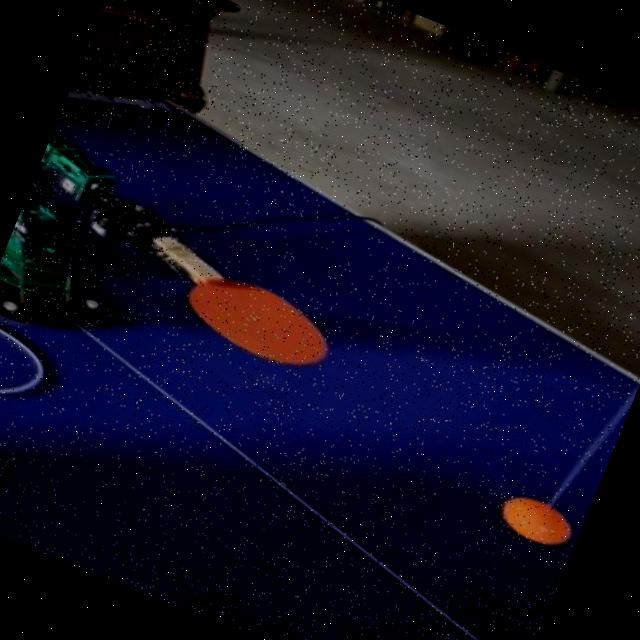ping-pong-ball: (494, 484, 575, 546)
